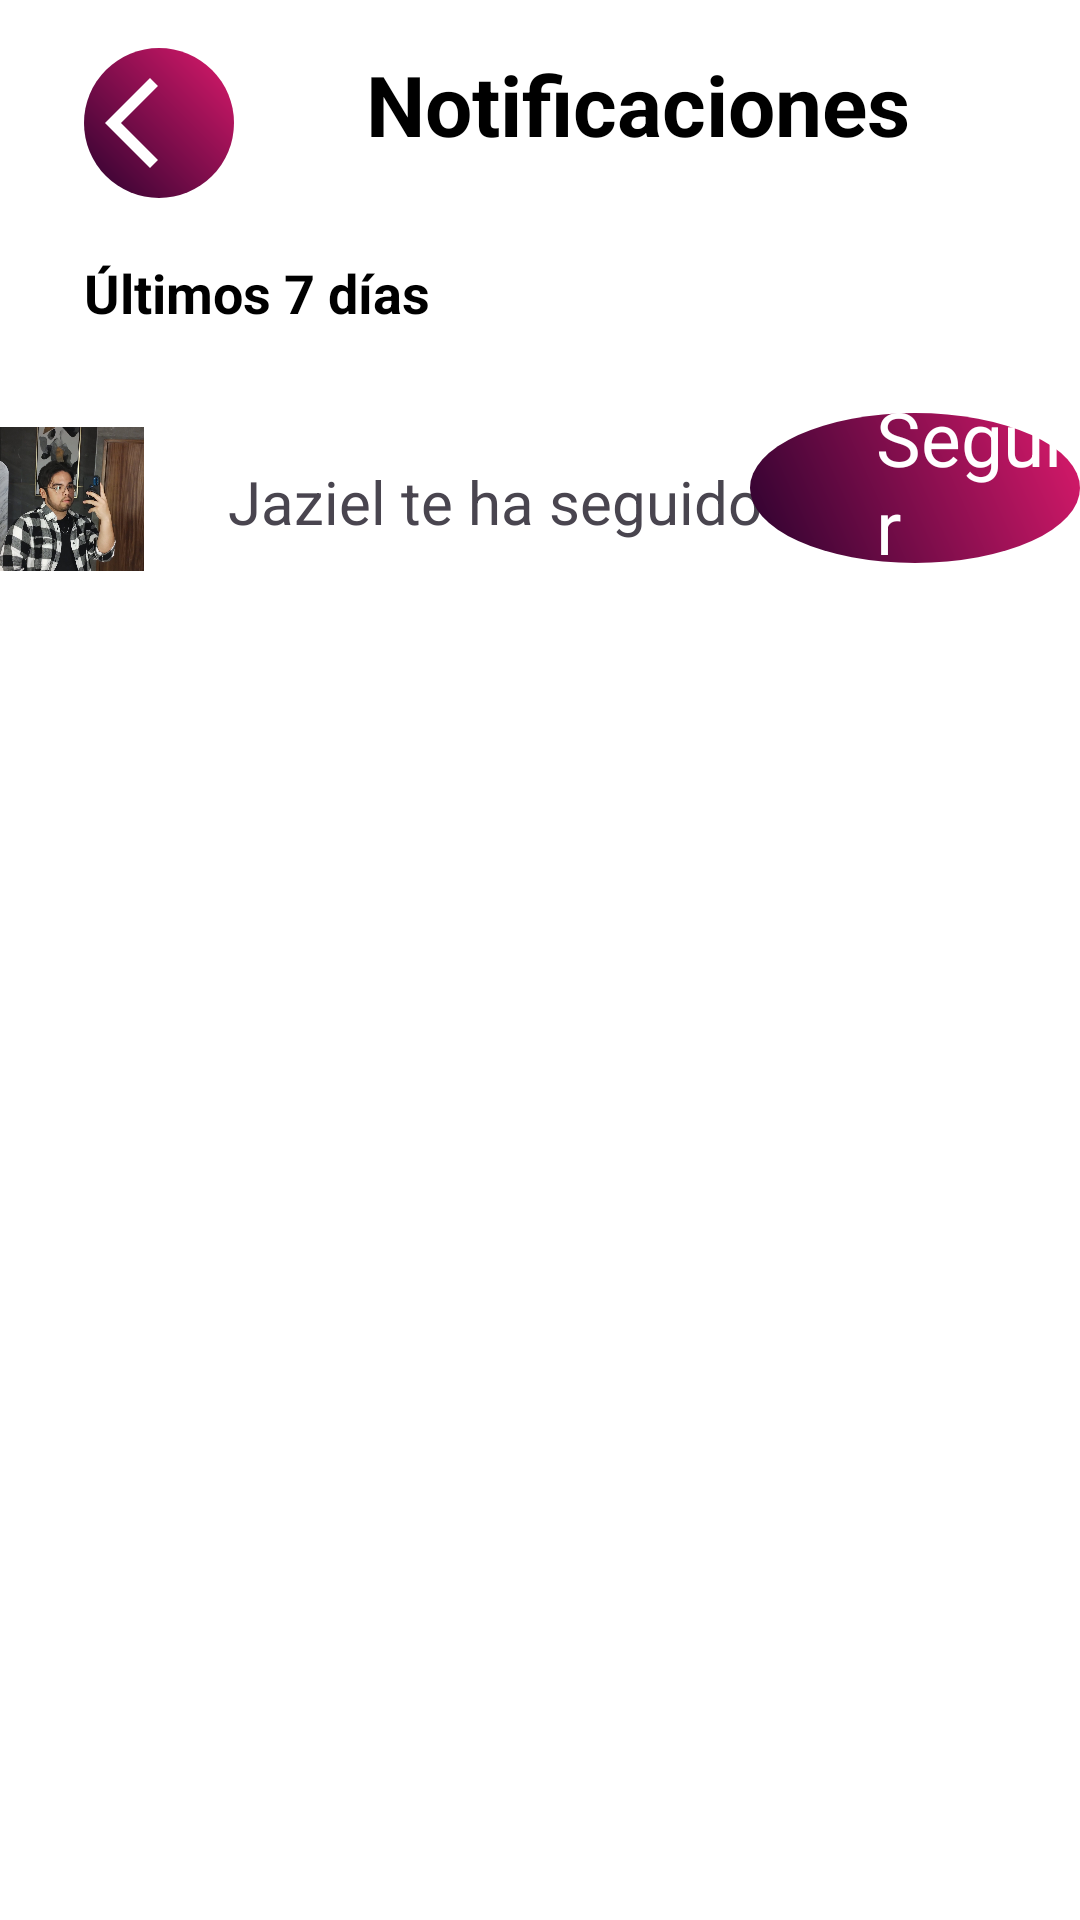

Locate icon controls on the screen. Image size 1080×1920, boxes as (x1, y1, x2, y2).
Atrás: (84, 48, 234, 198)
Foto de perfil de usuario: (0, 427, 144, 571)
